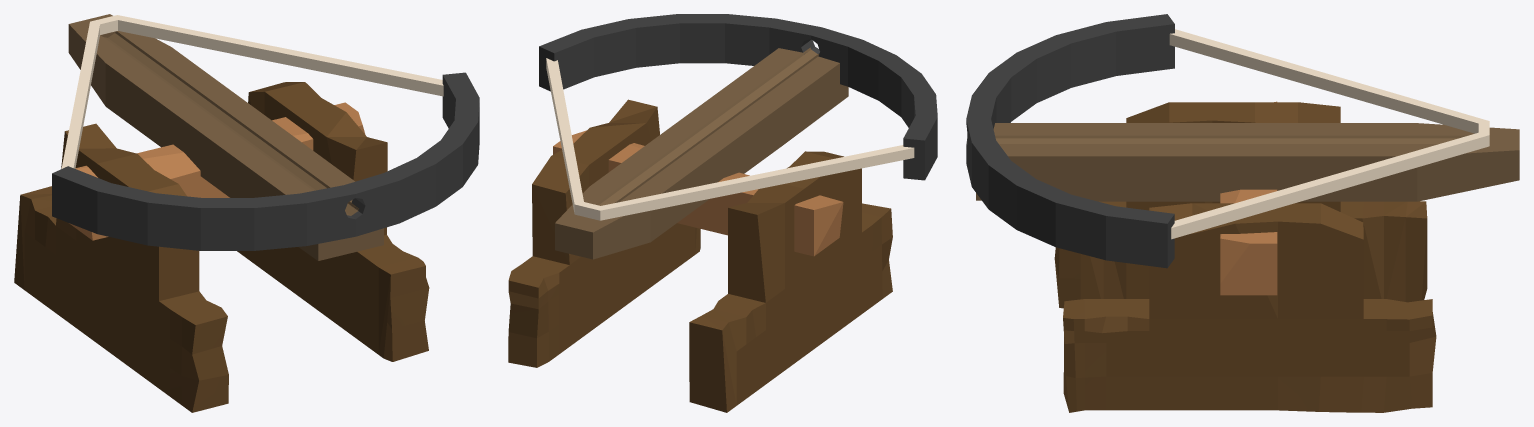
The model's file is Tower_Defense_Ballista_na.glb.
The picture shows the model from 3 angles, left to right: view 1: azimuth 30°, elevation 25°; view 2: azimuth 150°, elevation 25°; view 3: azimuth 270°, elevation 25°; orthographic projection. The views are drawn at different scales.
Visible parts, largest first — view 1: Cannon_Weap.001, BezierCurve, Ballista_Body, Plane; view 2: Cannon_Weap.001, Ballista_Body, BezierCurve, Plane; view 3: Cannon_Weap.001, Ballista_Body, BezierCurve, Plane.
Boxes of the visible parts, x1,y1,x2,y2 form: Cannon_Weap.001: (14, 82, 429, 412); BezierCurve: (52, 72, 479, 250); Ballista_Body: (68, 14, 383, 260); Plane: (61, 15, 443, 168); Cannon_Weap.001: (508, 99, 892, 412); Ballista_Body: (555, 47, 848, 259); BezierCurve: (539, 14, 937, 180); Plane: (546, 58, 914, 220); Cannon_Weap.001: (1054, 101, 1436, 412); Ballista_Body: (976, 123, 1519, 201); BezierCurve: (966, 14, 1174, 268); Plane: (1169, 29, 1489, 239).
Size of the model in its own units: 2 by 1.03 by 2.23.
4 materials, 1 textured.
